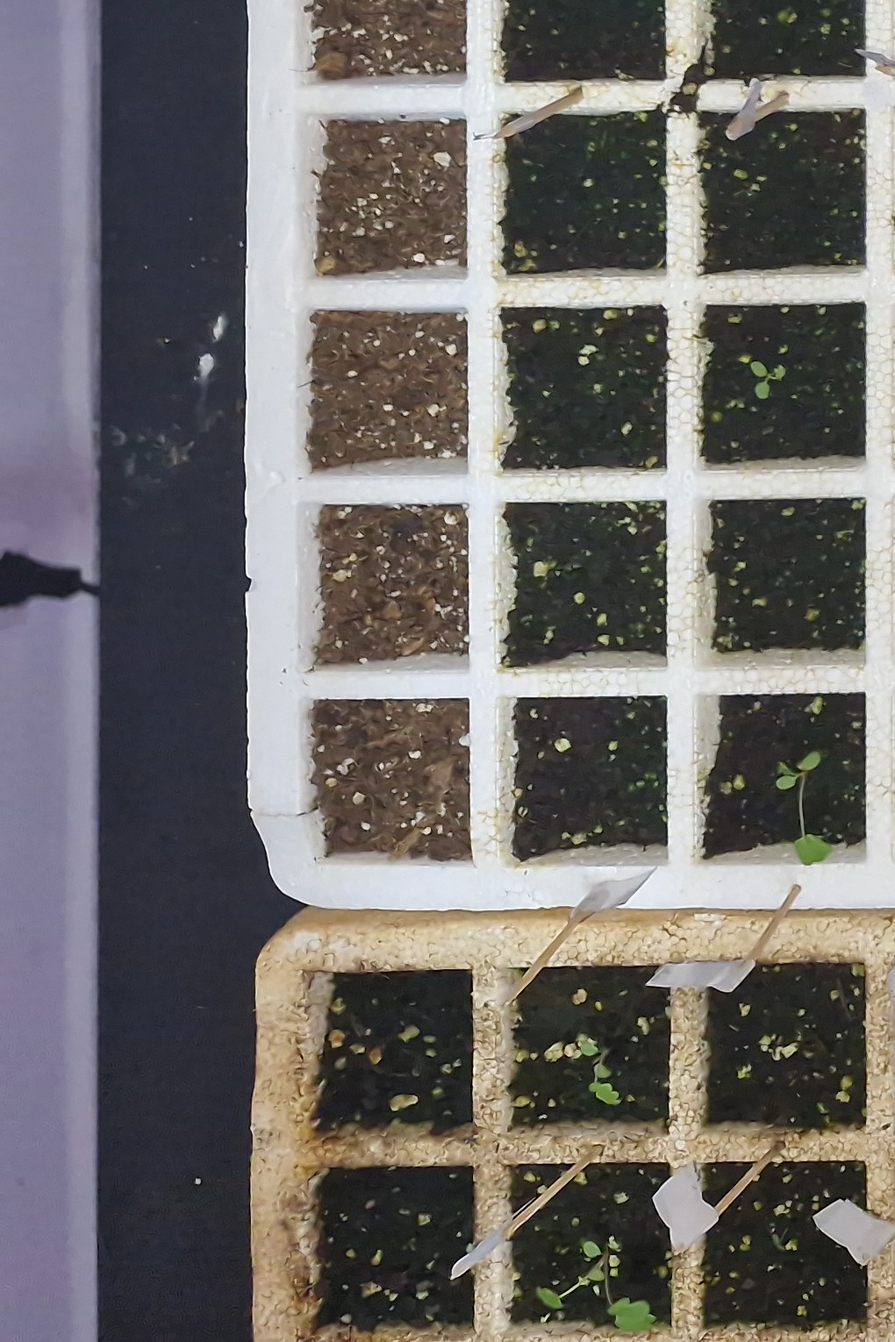Folha: (794, 834, 832, 865), (797, 751, 820, 770), (776, 776, 796, 789), (750, 362, 767, 377), (755, 382, 769, 398), (778, 762, 793, 775), (774, 365, 786, 378)
Germinacao: (777, 751, 832, 865), (750, 362, 786, 399)
